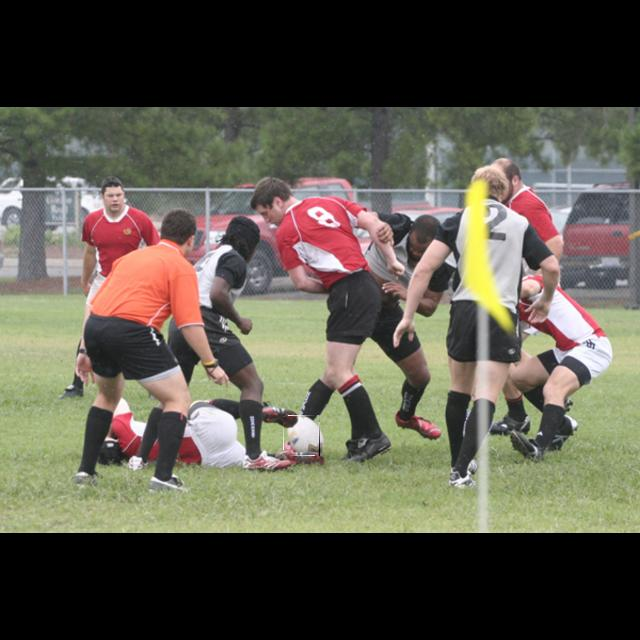Football: (284, 416, 320, 456)
